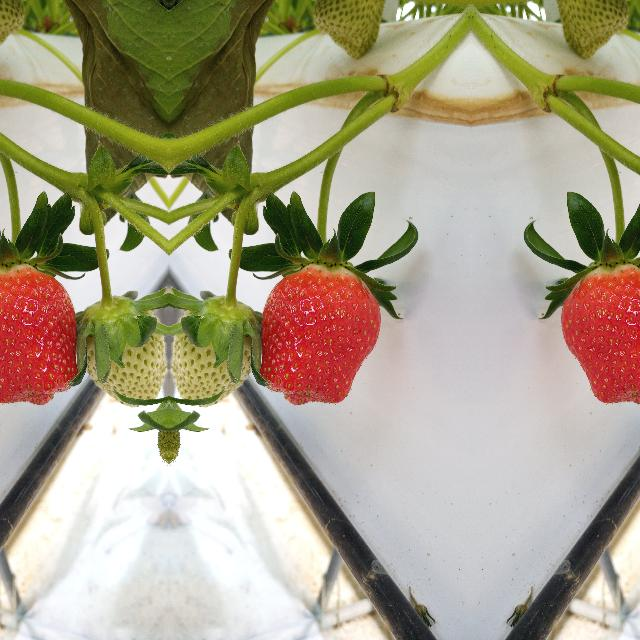Health_100: (258, 263, 382, 405), (559, 263, 640, 405), (0, 263, 77, 405)
Health_25: (170, 287, 260, 413), (76, 287, 166, 413)
